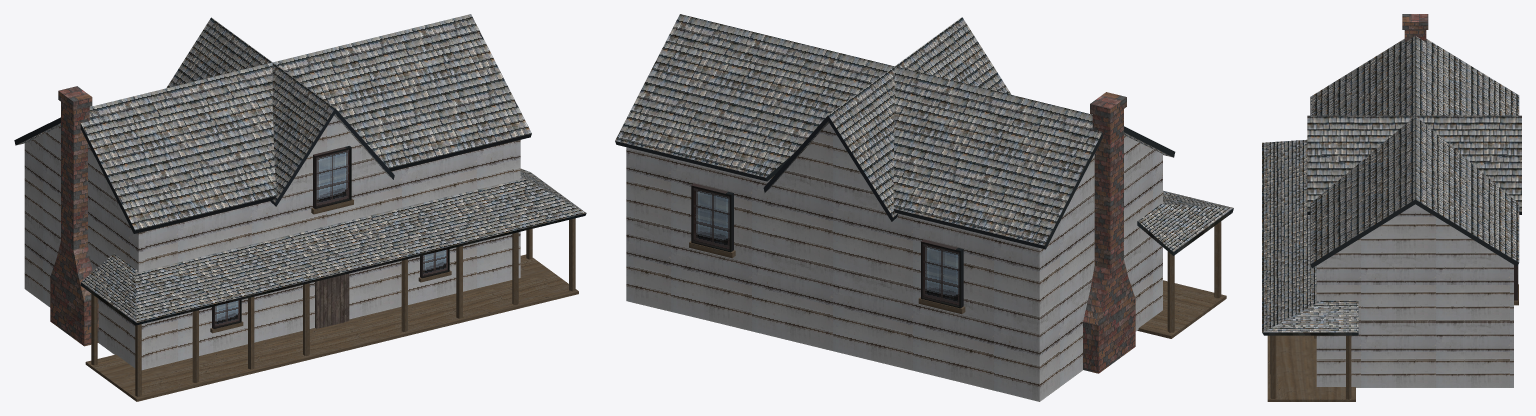
File: FarmHouse.fbx
3 renders of one model, left to right at view 1: azimuth 30°, elevation 25°; view 2: azimuth 150°, elevation 25°; view 3: azimuth 270°, elevation 25°, orthographic. The views are drawn at different scales.
Parts seen in each view (by area): view 1: Barn.002; view 2: Barn.002; view 3: Barn.002.
Boxes of the visible parts, bbox=[...] form: Barn.002: bbox=[14, 14, 586, 401]; Barn.002: bbox=[615, 14, 1233, 401]; Barn.002: bbox=[1262, 14, 1521, 401].
Size of the model in its own units: 808 by 411 by 467.
